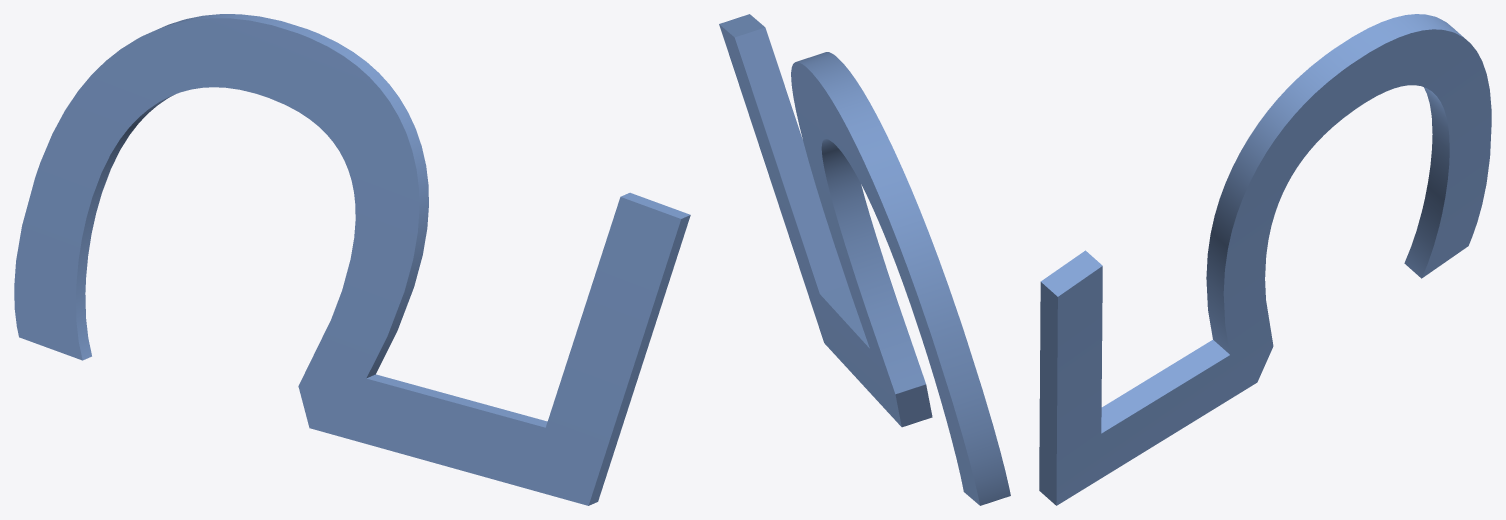
Rendered from New_Number_5.gltf.
3 renders of one model, left to right at view 1: azimuth 30°, elevation 25°; view 2: azimuth 150°, elevation 25°; view 3: azimuth 270°, elevation 25°, orthographic. The views are drawn at different scales.
Visible parts, largest first — view 1: Part 392; view 2: Part 392; view 3: Part 392.
Boxes of the visible parts, x1,y1,x2,y2 form: Part 392: [14, 14, 690, 505]; Part 392: [719, 14, 1010, 505]; Part 392: [1039, 14, 1491, 505].
Size of the model in its own units: 0.00475 by 0.00396 by 0.00415.
